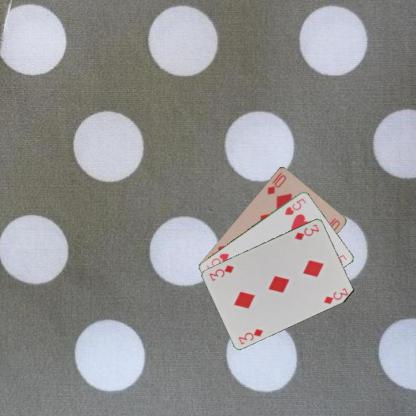10d: (263, 169, 288, 196)
3d: (292, 221, 321, 241), (235, 326, 264, 345)
5h: (282, 195, 307, 216)
